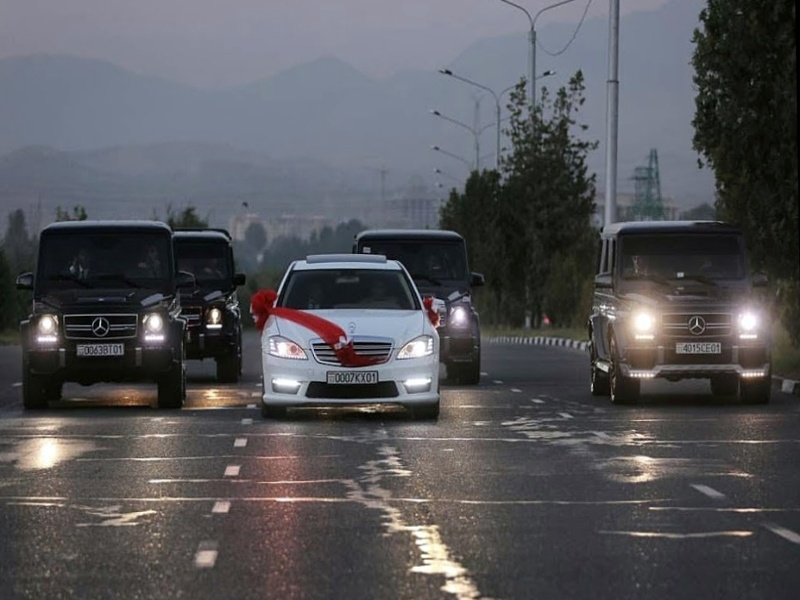car: (588, 220, 773, 406), (15, 220, 193, 411), (260, 254, 440, 419), (352, 229, 485, 384), (173, 228, 247, 380)
plate: (326, 370, 378, 385), (76, 344, 124, 356), (676, 342, 720, 354)
